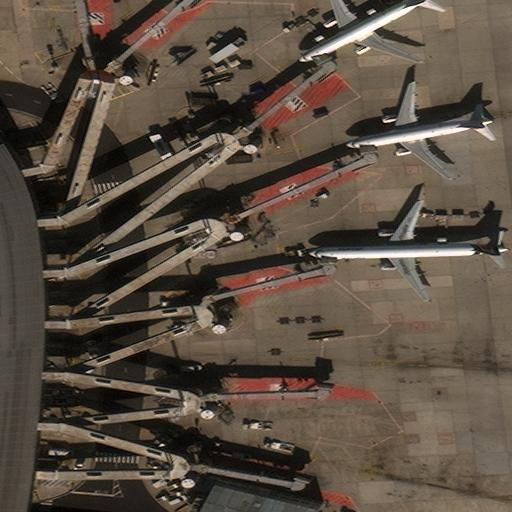Medium Civil Transport: (309, 201, 509, 301), (346, 84, 492, 178), (299, 0, 432, 63)
